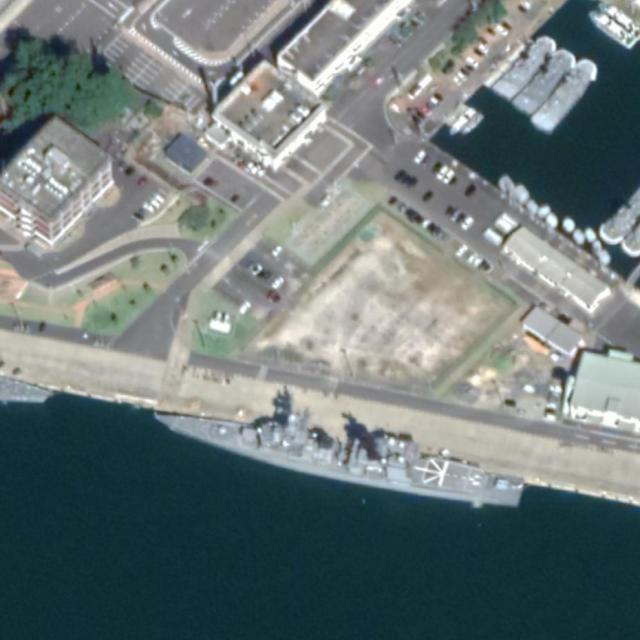Destroyer: (151, 407, 524, 513)
